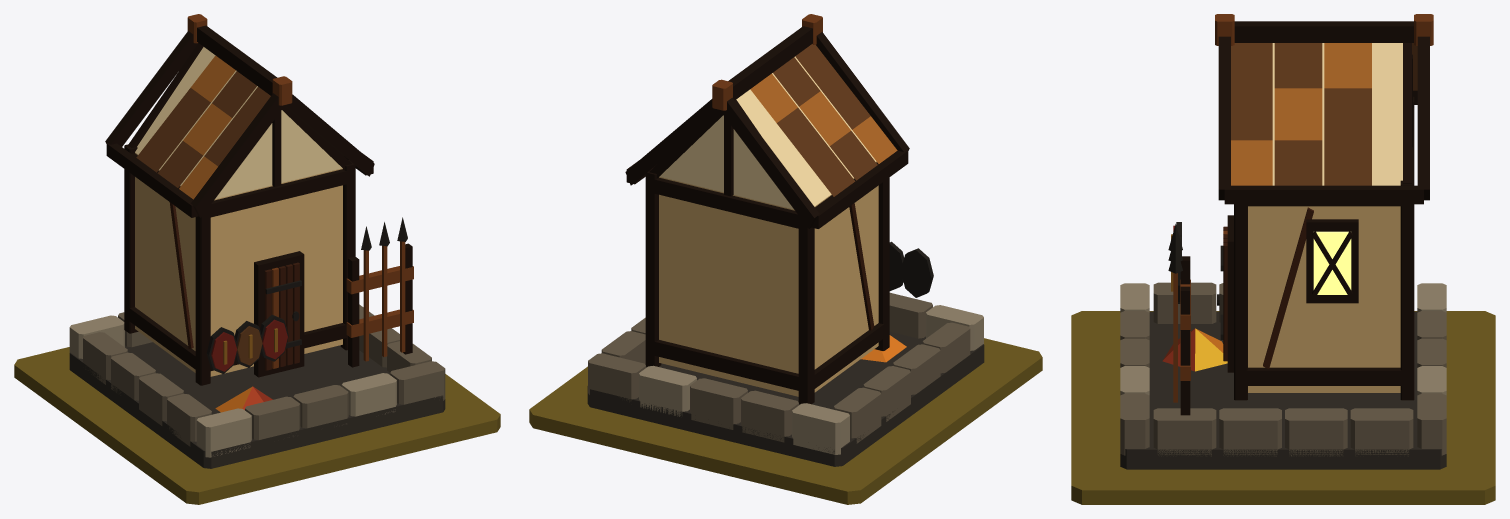
File: armory_t2.glb
The picture shows the model from 3 angles, left to right: view 1: azimuth 30°, elevation 25°; view 2: azimuth 150°, elevation 25°; view 3: azimuth 270°, elevation 25°; orthographic projection. The views are drawn at different scales.
Parts seen in each view (by area): view 1: MMR | armory | T02 Architecture.001, MMR | armory | Tier 02 Ground.001, MMR | armory | T02 Autumn Dressing.001; view 2: MMR | armory | T02 Architecture.001, MMR | armory | Tier 02 Ground.001; view 3: MMR | armory | T02 Architecture.001, MMR | armory | Tier 02 Ground.001, MMR | armory | T02 Autumn Dressing.001.
Boxes of the visible parts, x1=… form: MMR | armory | T02 Architecture.001: x1=69, y1=14, x2=445, y2=468; MMR | armory | Tier 02 Ground.001: x1=14, y1=347, x2=500, y2=504; MMR | armory | T02 Autumn Dressing.001: x1=215, y1=386, x2=272, y2=412; MMR | armory | T02 Architecture.001: x1=587, y1=14, x2=984, y2=466; MMR | armory | Tier 02 Ground.001: x1=529, y1=338, x2=1042, y2=504; MMR | armory | T02 Architecture.001: x1=1120, y1=14, x2=1446, y2=469; MMR | armory | Tier 02 Ground.001: x1=1071, y1=311, x2=1495, y2=504; MMR | armory | T02 Autumn Dressing.001: x1=1162, y1=328, x2=1227, y2=371.
Size of the model in its own units: 1.3 by 1.34 by 1.3.
2 materials, 1 textured.
